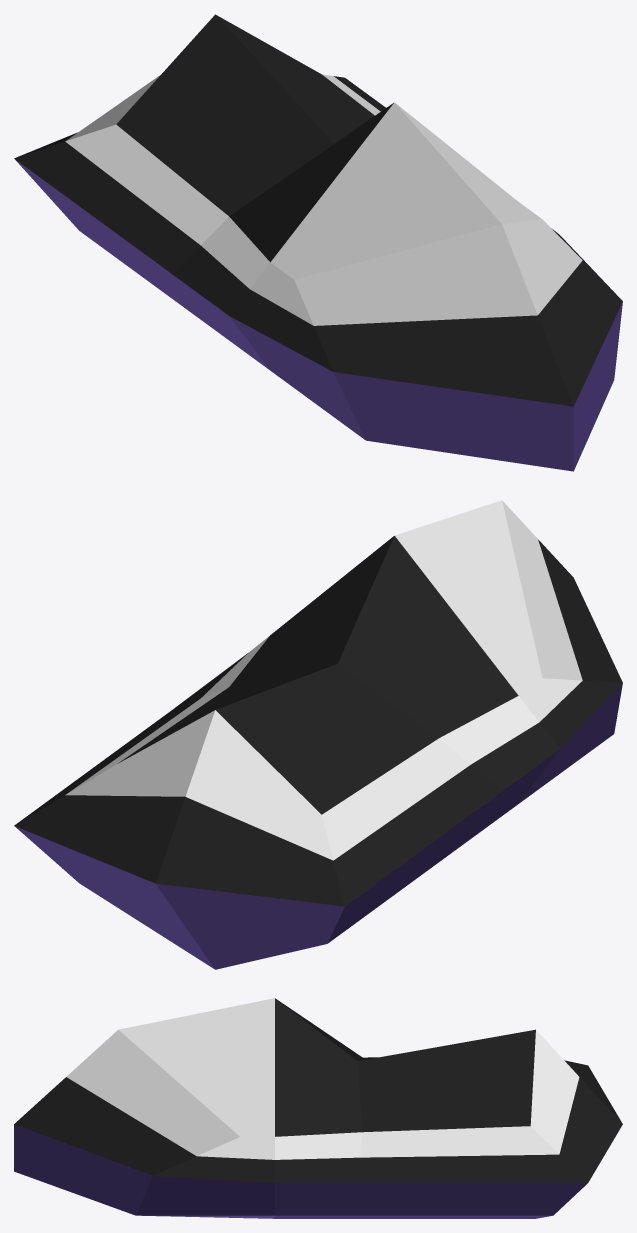
File: bike.glb
The picture shows the model from 3 angles, top to bottom: view 1: azimuth 30°, elevation 25°; view 2: azimuth 150°, elevation 25°; view 3: azimuth 270°, elevation 25°; orthographic projection. The views are drawn at different scales.
Parts seen in each view (by area): view 1: waterbikev2; view 2: waterbikev2; view 3: waterbikev2.
Boxes of the visible parts, box(x1,y1,x2,y2) form: waterbikev2: box(14, 14, 622, 471); waterbikev2: box(14, 500, 622, 969); waterbikev2: box(14, 998, 622, 1218).
Size of the model in its own units: 1.6 by 1.4 by 3.5.
